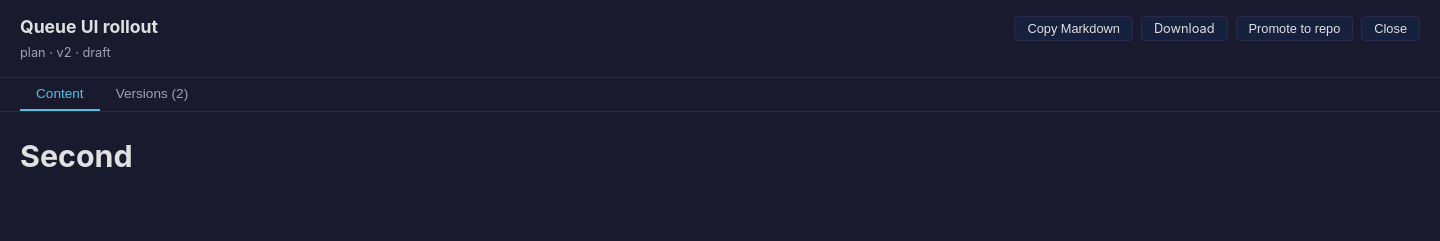
Scenario: ArtifactViewer › renders markdown, owner promote action, and versions tab
Expected: the heading "Queue UI rollout" is shown, [20, 16, 158, 37]
Expected: the heading "Second" is shown, [20, 138, 133, 174]
Click the button "Versions (2)". click: coordinates (152, 94)
box: [100, 78, 204, 111]
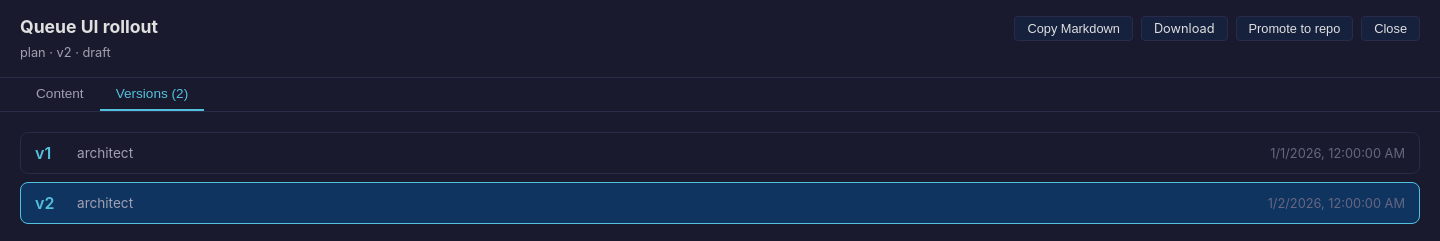
Now the text "v1" is shown
Now the text "v2" is shown, box [35, 193, 54, 213]
Click the text "v1". click: coordinates (43, 153)
box: [35, 143, 51, 163]
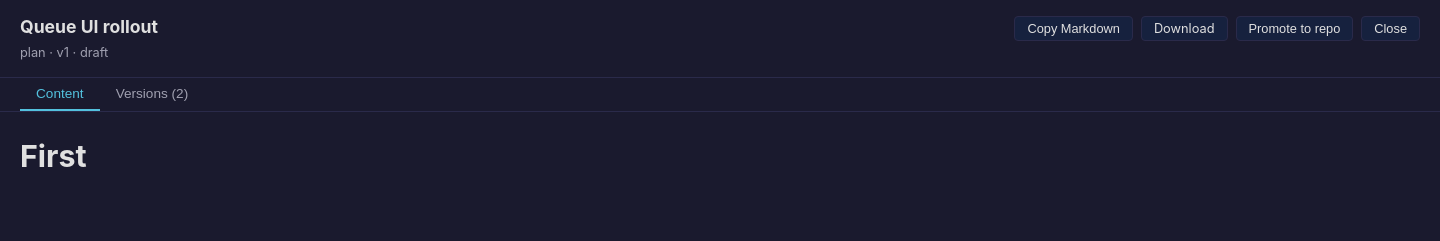
Now the heading "First" is shown, box [20, 138, 87, 174]
